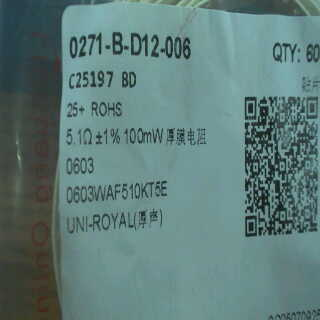5.1R: (64, 127, 92, 152)
